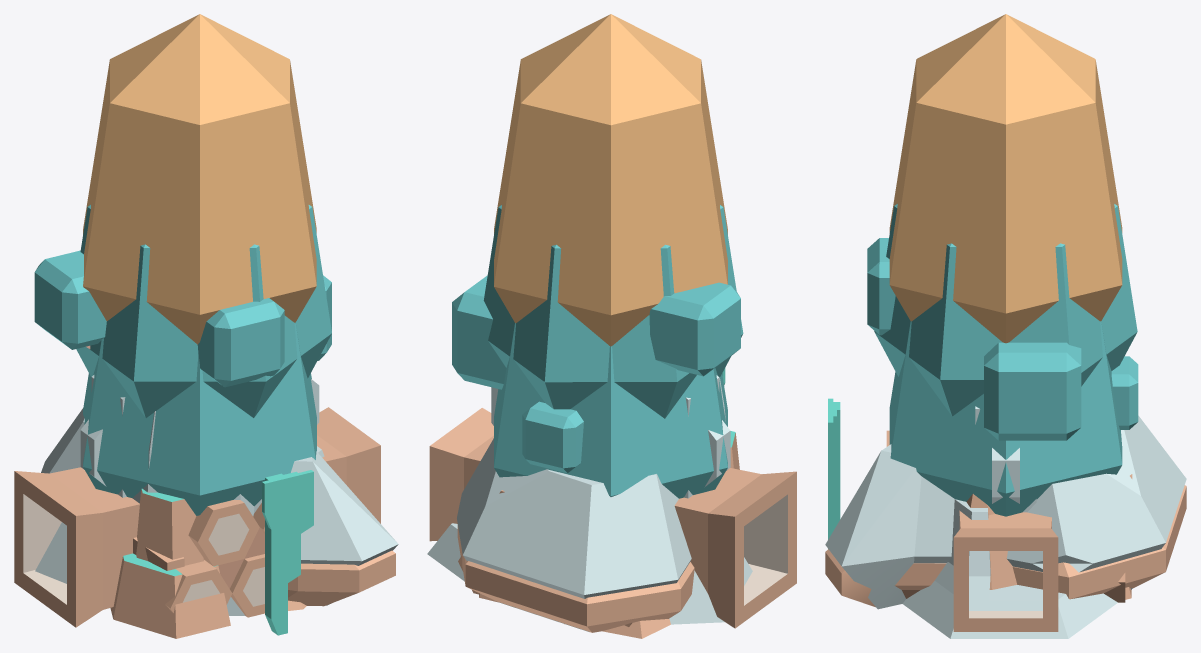
The model's file is nature.glb.
The picture shows the model from 3 angles, left to right: view 1: azimuth 30°, elevation 25°; view 2: azimuth 150°, elevation 25°; view 3: azimuth 270°, elevation 25°; orthographic projection.
Parts seen in each view (by area): view 1: tree_default_fall, tree_fat_darkh, log_large, tree_oak_dark, tree_detailed_dark, rock_tallB, stone_largeB, log_stackLarge, hanging_moss, rock_largeA, stone_tallA, statue_head; view 2: tree_default_fall, stone_largeB, log_large, tree_fat_darkh, tree_oak_dark, tree_detailed_dark, rock_largeA, stone_tallA, rock_tallB, statue_head; view 3: tree_default_fall, stone_largeB, tree_fat_darkh, tree_oak_dark, tree_detailed_dark, stone_tallA, log_large, rock_largeA, hanging_moss, rock_tallB, statue_head.
Boxes of the visible parts, x1,y1,x2,y2 form: tree_default_fall: [83, 14, 316, 344]; tree_fat_darkh: [83, 322, 316, 515]; log_large: [14, 407, 380, 627]; tree_oak_dark: [76, 204, 331, 417]; tree_detailed_dark: [34, 250, 331, 387]; rock_tallB: [110, 488, 306, 638]; stone_largeB: [41, 408, 398, 605]; log_stackLarge: [165, 500, 264, 617]; hanging_moss: [262, 470, 313, 635]; rock_largeA: [288, 550, 395, 606]; stone_tallA: [35, 411, 324, 615]; statue_head: [80, 379, 319, 486]; tree_default_fall: [494, 14, 727, 346]; stone_largeB: [457, 438, 691, 631]; log_large: [429, 408, 796, 628]; tree_fat_darkh: [494, 323, 727, 498]; tree_oak_dark: [483, 205, 743, 418]; tree_detailed_dark: [452, 275, 740, 473]; rock_largeA: [457, 525, 694, 632]; stone_tallA: [427, 378, 752, 624]; rock_tallB: [479, 431, 739, 638]; statue_head: [491, 387, 730, 487]; tree_default_fall: [889, 14, 1122, 343]; stone_largeB: [825, 415, 1186, 609]; tree_fat_darkh: [889, 321, 1122, 516]; tree_oak_dark: [874, 203, 1137, 416]; tree_detailed_dark: [867, 238, 1138, 440]; stone_tallA: [902, 499, 1117, 638]; log_large: [953, 510, 1058, 631]; rock_largeA: [825, 485, 1186, 607]; hanging_moss: [828, 398, 840, 539]; rock_tallB: [966, 494, 1131, 599]; statue_head: [992, 448, 1019, 503].
Bounding box in the file's own units: 1 × 1.71 × 1.02.
